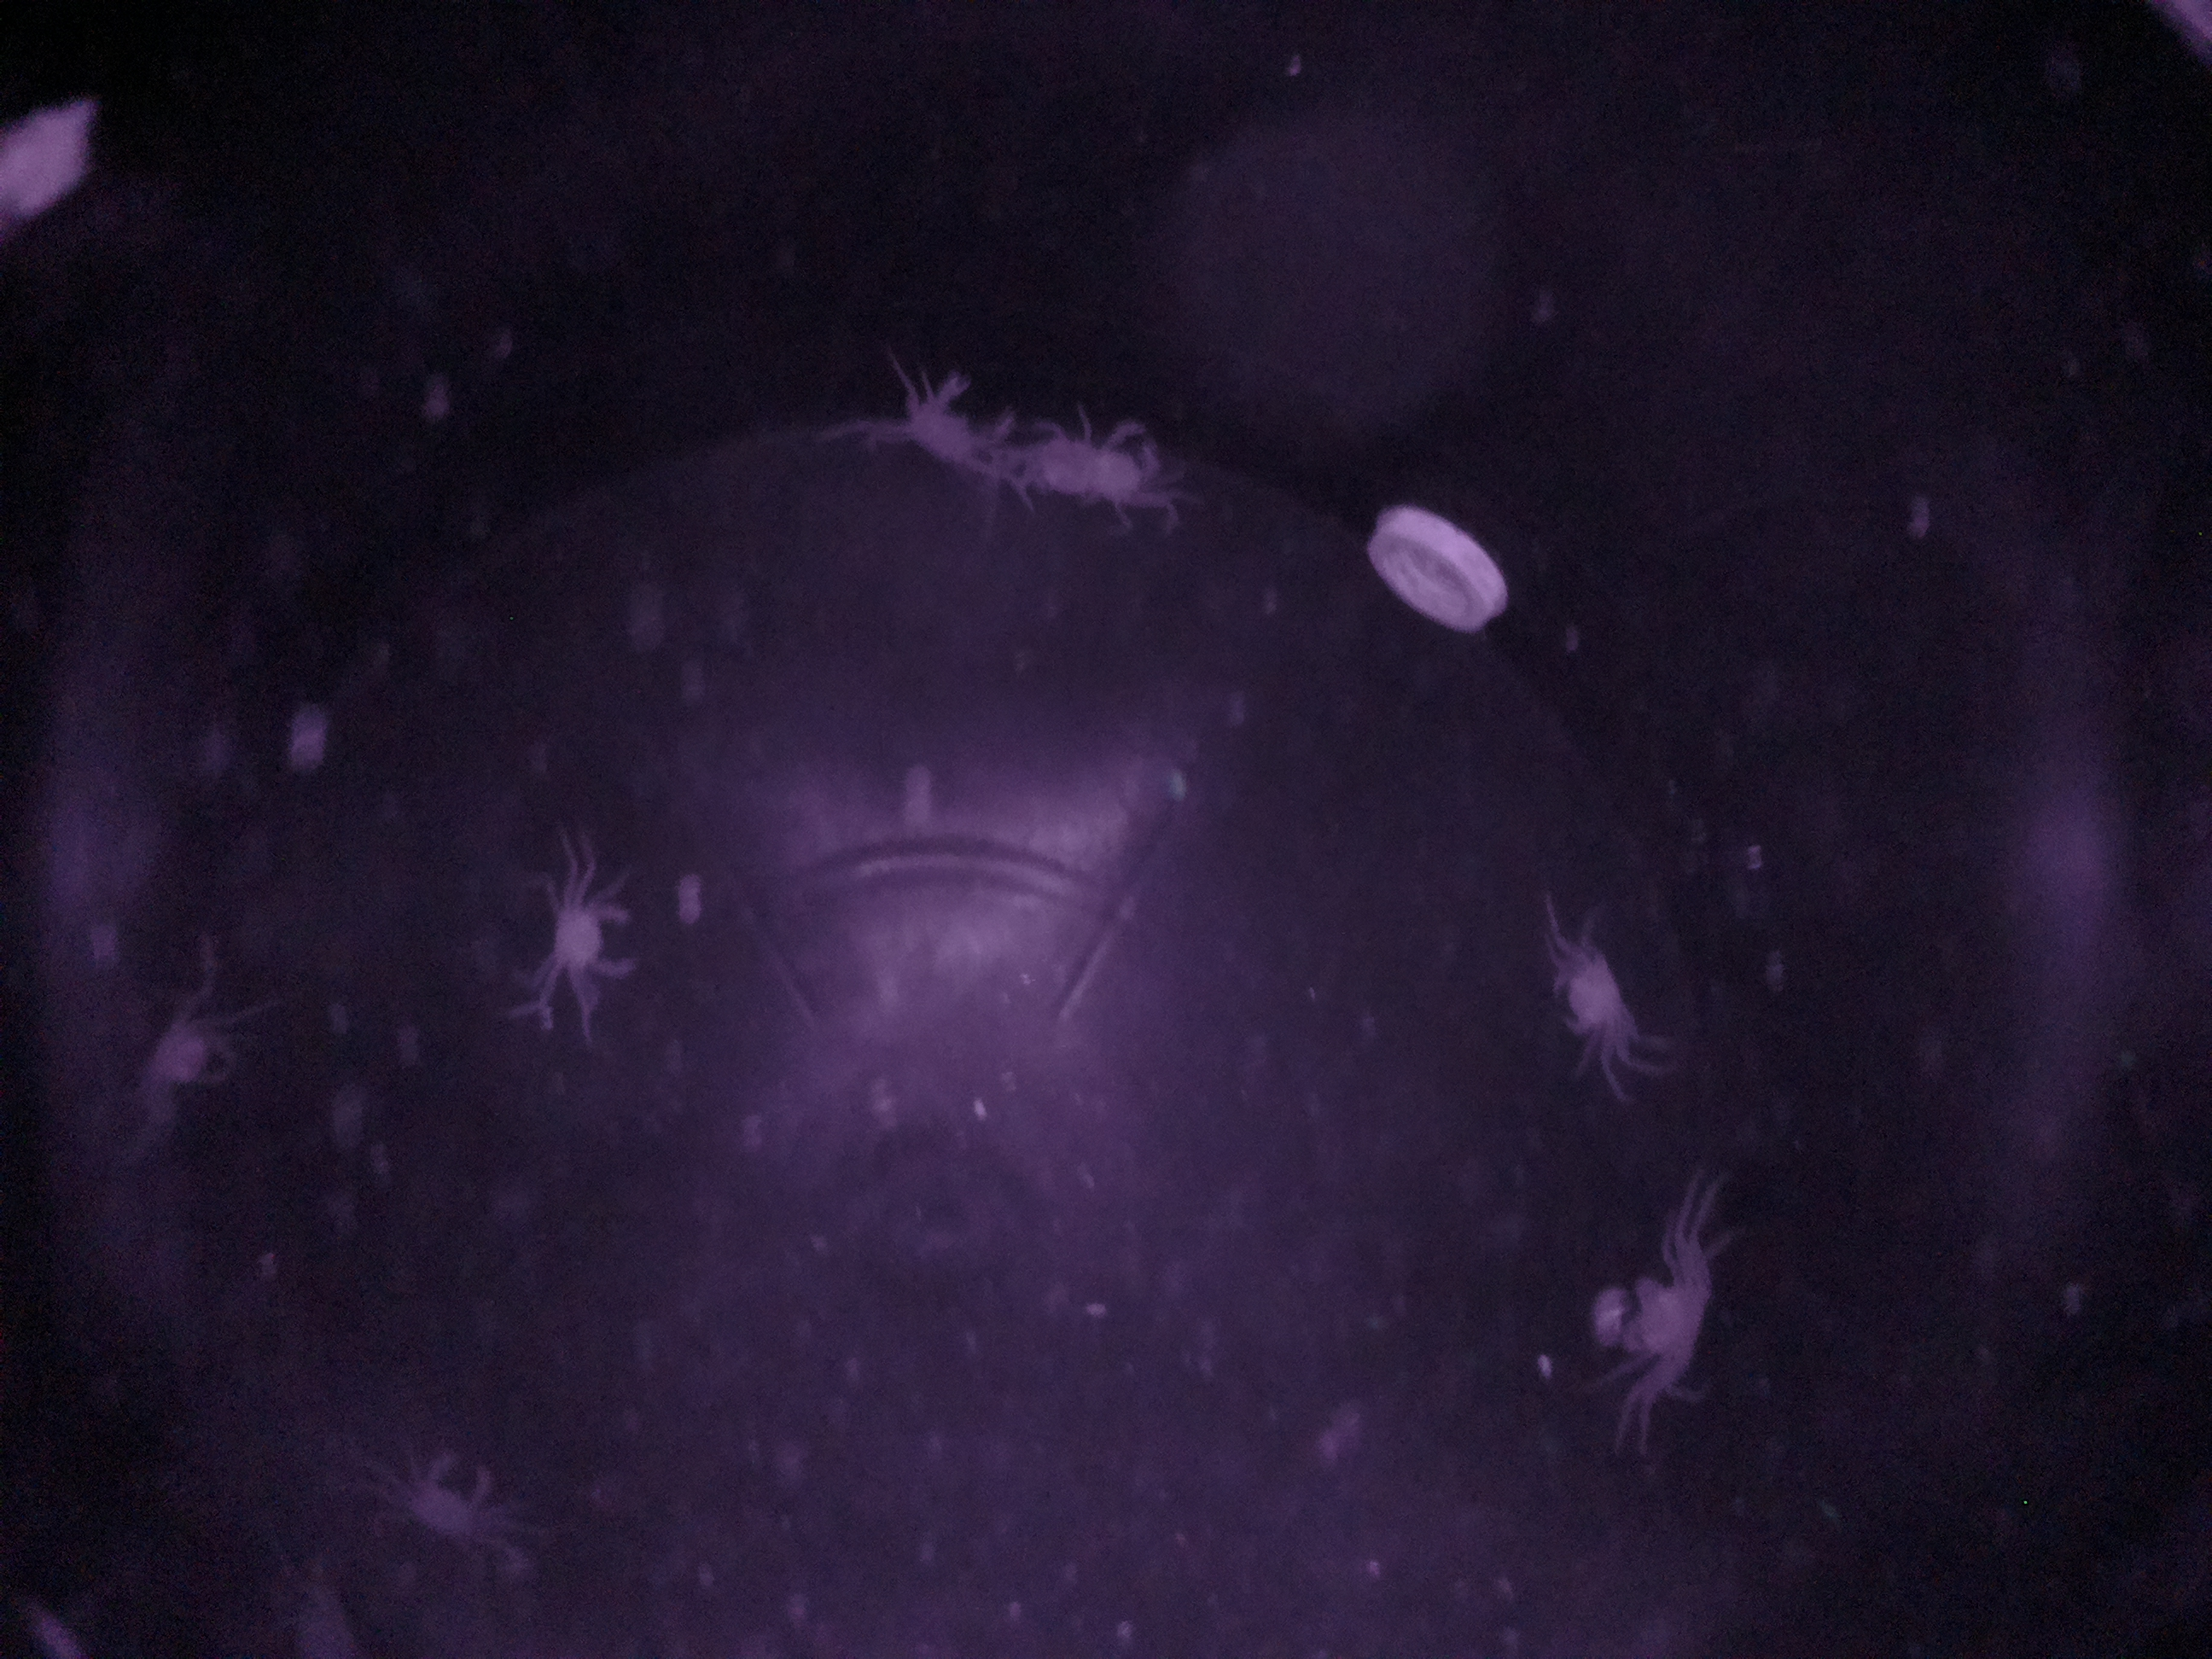Crab: (1507, 924, 1663, 1065), (529, 863, 662, 988)
